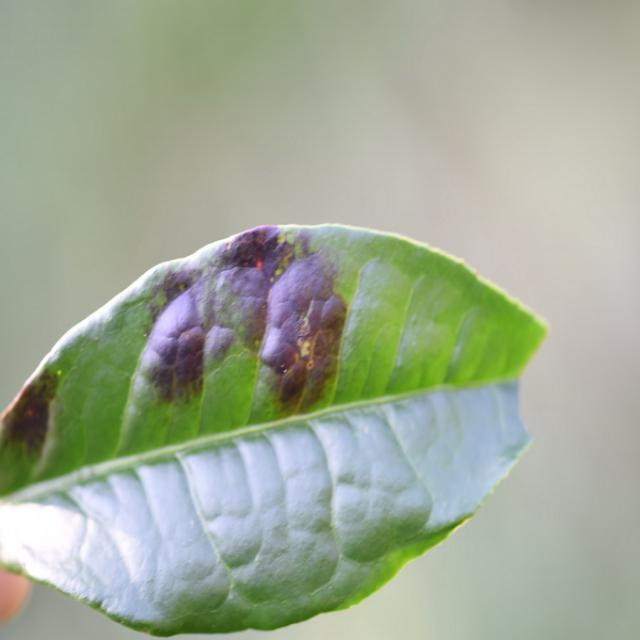Tea exobasidium blight: (139, 233, 340, 415)
